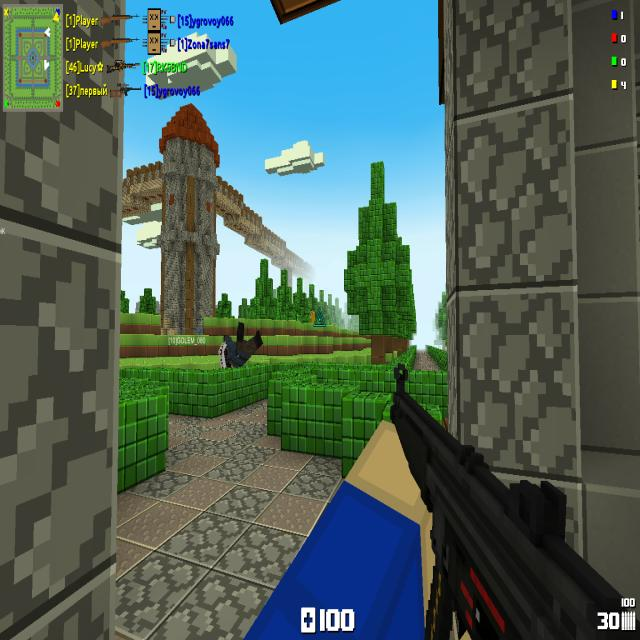enemy: (310, 309, 316, 324)
